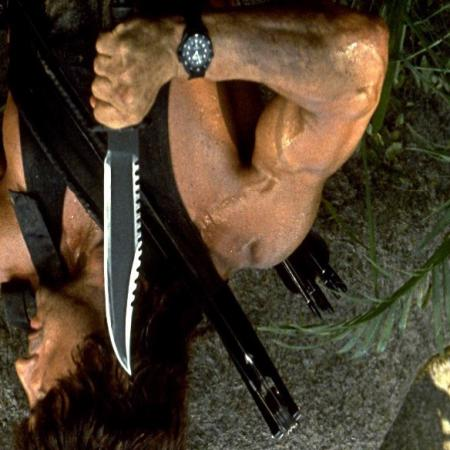long weapon: (84, 28, 150, 384)
